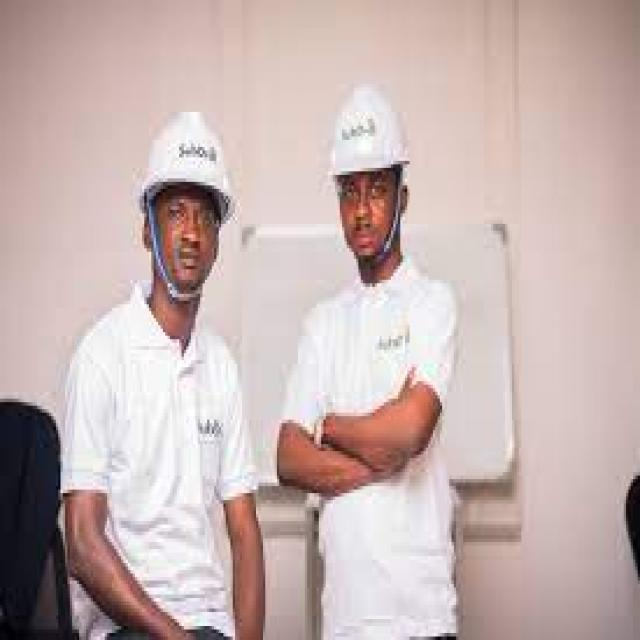Safety-Helmet: (130, 98, 254, 231), (319, 70, 416, 192)
